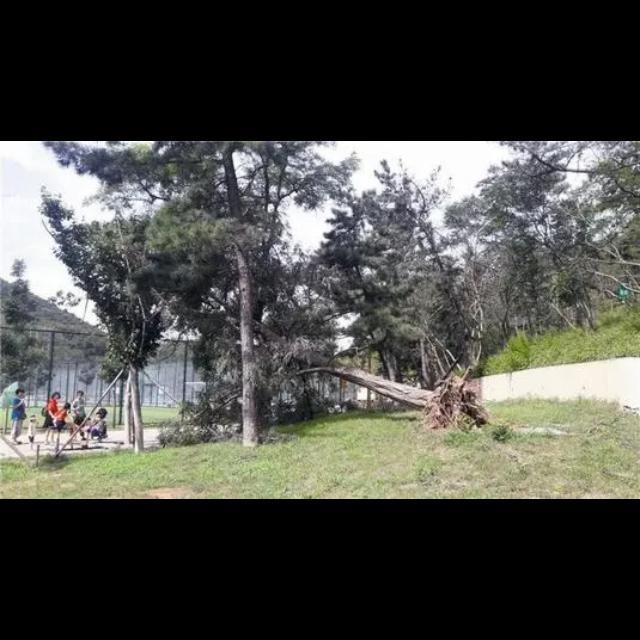fallen_tree: (185, 325, 475, 421)
